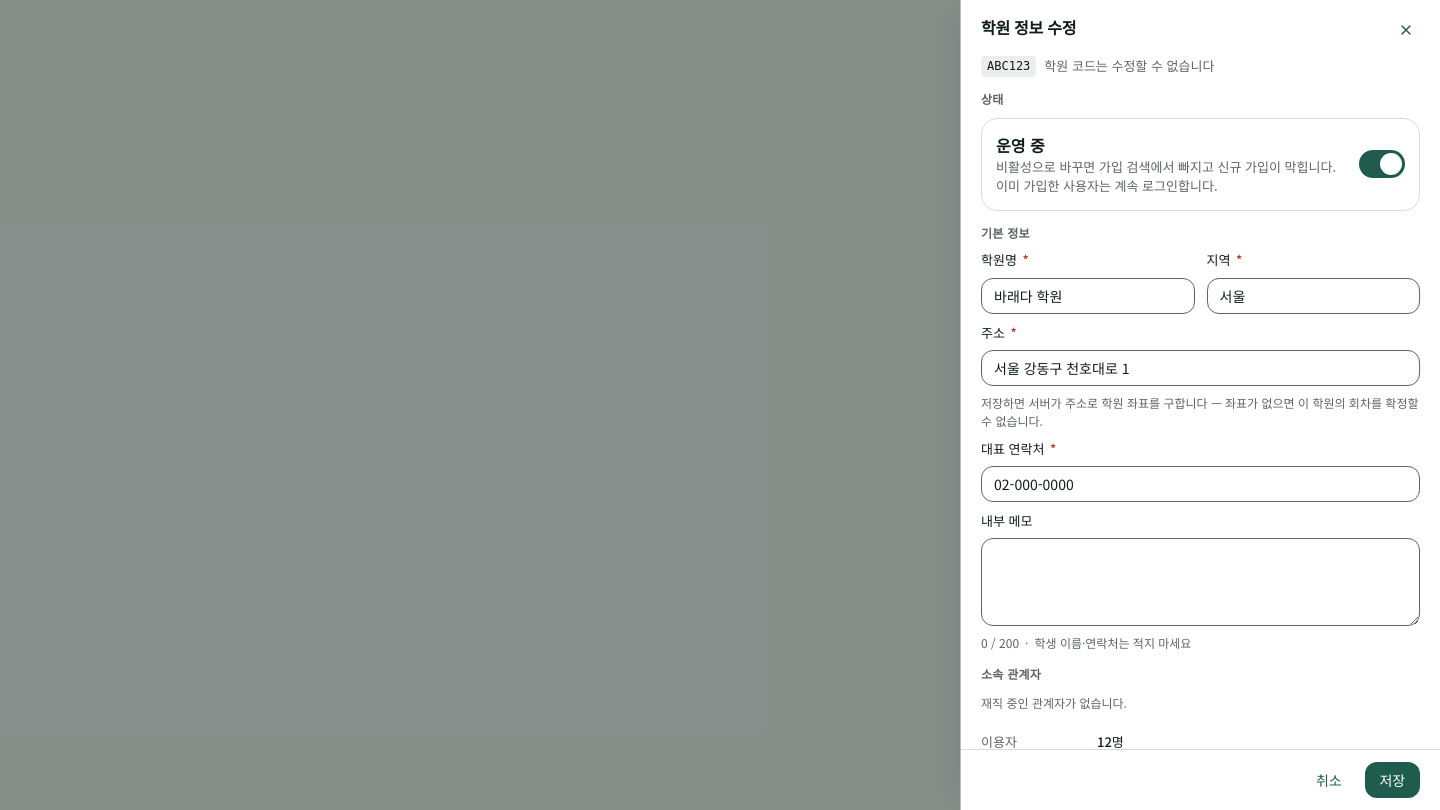
AcademyFormDialog — 비활성화 전 확인 › 운영 중 → 비활성으로 스위치를 누르면 소속 인원과 영향을 알리는 확인 창이 먼저 뜨고 요청은 나가지 않는다
expect the field showing "바래다 학원" is shown: met, box 981,278 -> 1194,314
Click the checkbox labelled "운영 중".
click(1200, 164)  # box 996,133 -> 1405,196
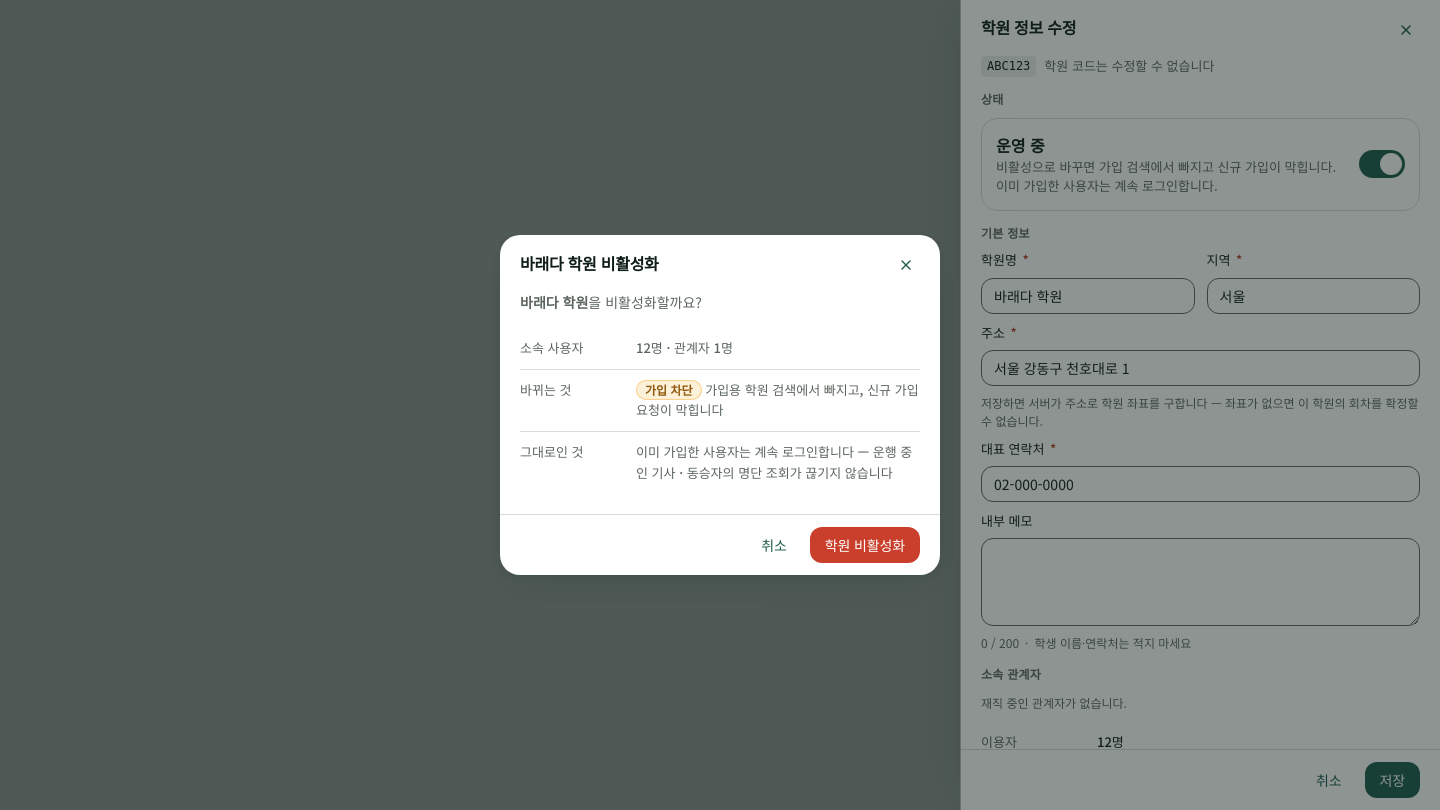
expect the text "12명 · 관계자 1명" is shown: met, box 636,328 -> 920,370
expect the text "가입 차단 가입용 학원 검색에서 빠지고, 신규 가입 요청이 막힙니다" is shown: met, box 636,370 -> 920,432
